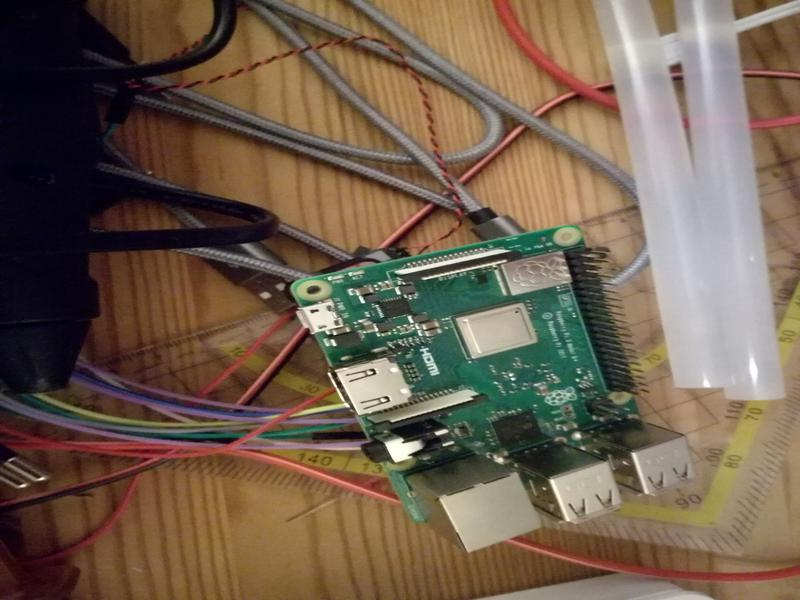Raspberry_Pi_3: (288, 220, 696, 559)
